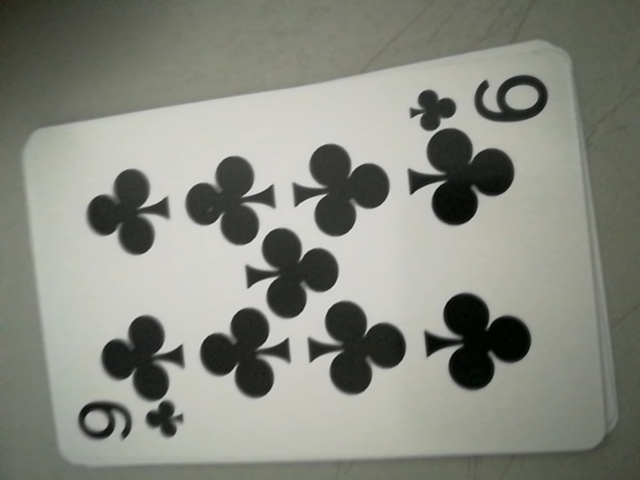mh 9: (409, 65, 552, 136), (73, 393, 192, 459)
